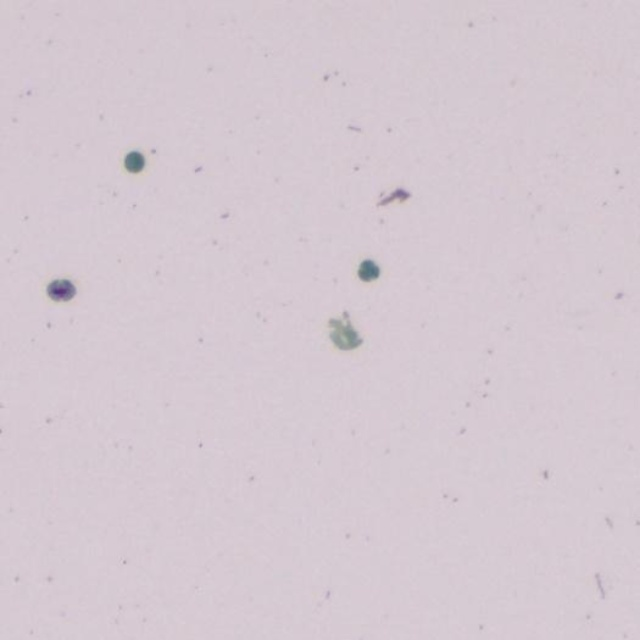intermediate: (46, 279, 74, 301)
non_viable: (357, 260, 379, 280), (124, 151, 144, 172)
